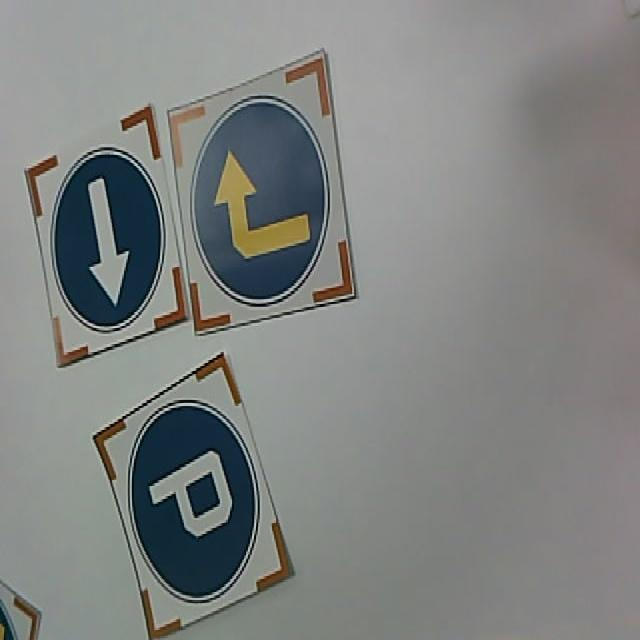parking: (98, 352, 296, 636)
straight: (29, 109, 188, 368)
turn: (169, 51, 364, 332)
